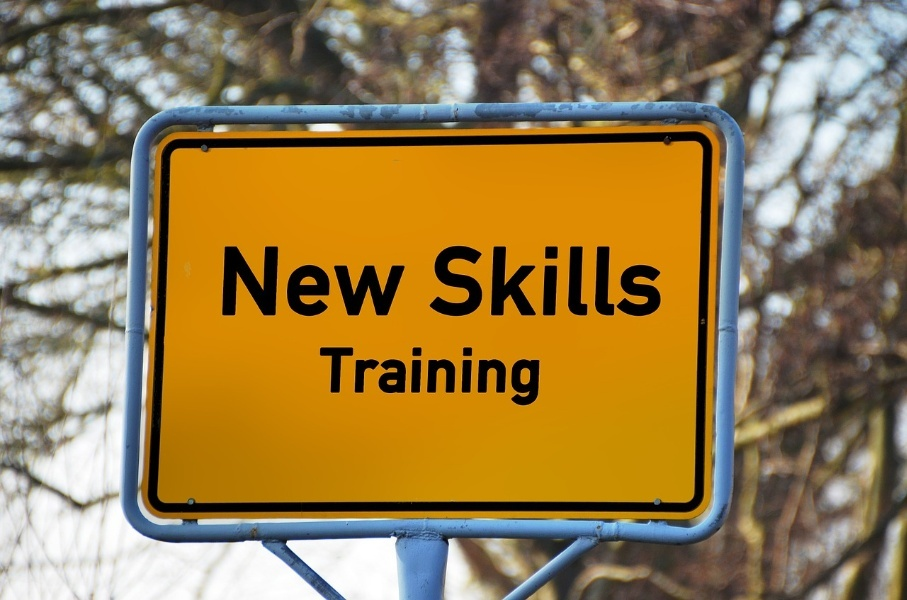text: (433, 241, 448, 319), (449, 241, 464, 319), (465, 241, 480, 319), (481, 241, 496, 319), (497, 241, 512, 319), (513, 241, 528, 319), (529, 241, 544, 319), (545, 241, 560, 319), (561, 241, 576, 319), (577, 241, 592, 319), (593, 241, 608, 319), (609, 241, 624, 319), (625, 241, 640, 319), (641, 241, 656, 319), (225, 245, 240, 318), (241, 245, 256, 318), (257, 245, 272, 318), (273, 245, 288, 318), (289, 245, 304, 318), (305, 245, 320, 318), (321, 245, 336, 318), (337, 245, 352, 318), (353, 245, 368, 318), (369, 245, 384, 318), (385, 245, 400, 318), (321, 346, 336, 406), (337, 346, 352, 406), (353, 346, 368, 406), (369, 346, 384, 406), (385, 346, 400, 406), (401, 346, 416, 406), (417, 346, 432, 406), (433, 346, 448, 406), (449, 346, 464, 406), (465, 346, 480, 406), (481, 346, 496, 406), (497, 346, 512, 406), (513, 346, 528, 406), (529, 346, 541, 406), (657, 241, 664, 319), (401, 245, 407, 318), (222, 245, 224, 318)
